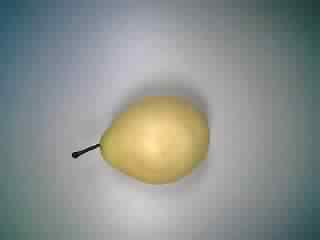pear: (59, 85, 223, 190)
